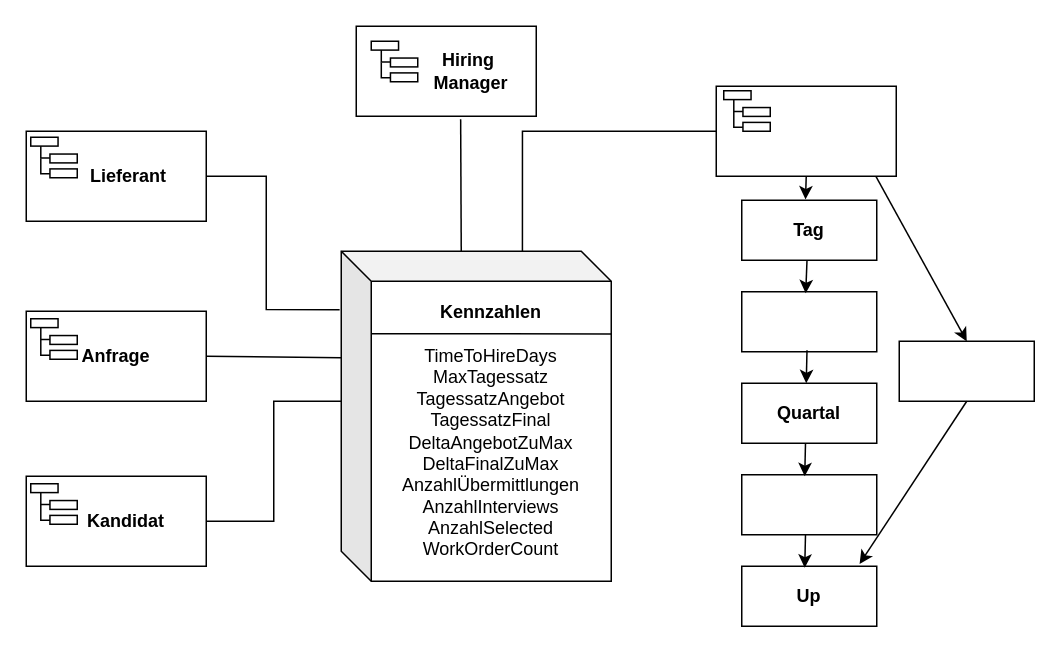
The diagram is 1061 pixels wide and 653 high, and some of its shapes have lost their labels. Here are the shapes that lost their labels. From the top down, the centre of each, then its label:
the point at 805,130: Zeit
the point at 808,321: Monat
the point at 966,370: Woche
the point at 808,504: Jahr
